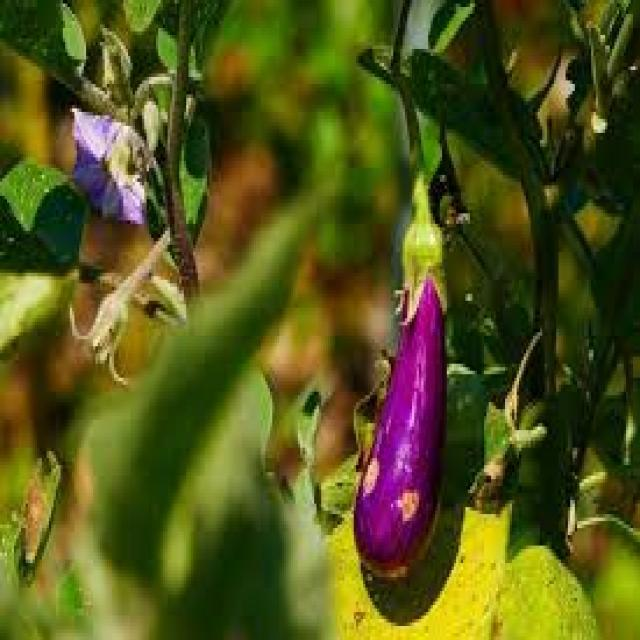Eggplant: (351, 142, 454, 584)
